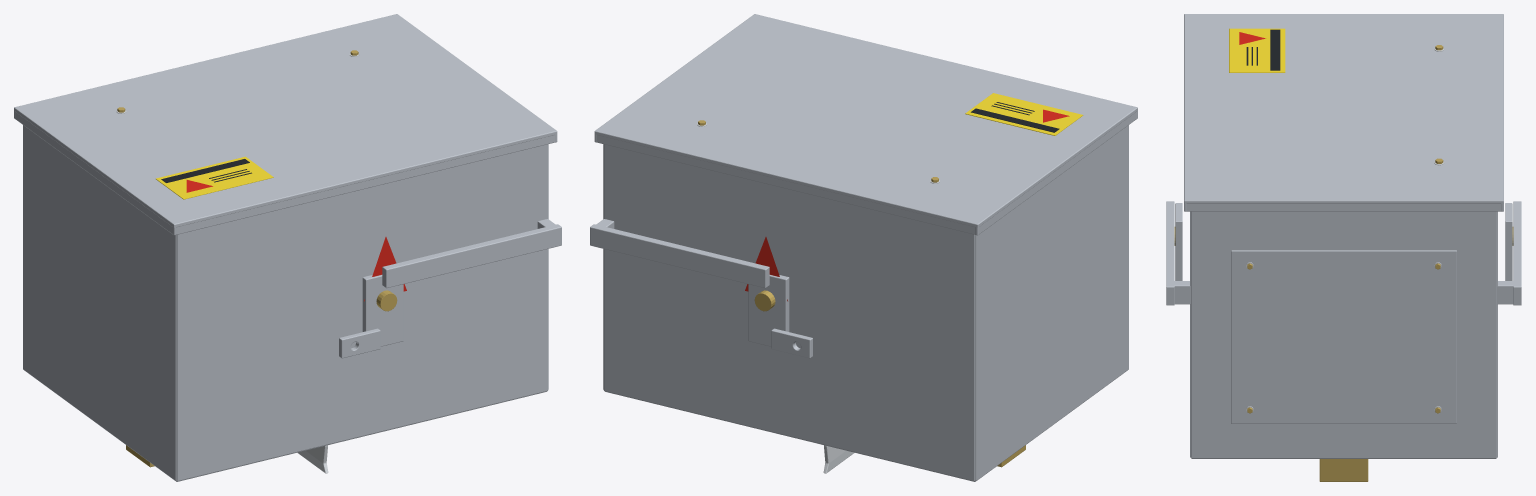
File: tap-off-double-top.glb
3 views of the same model, side by side, from view 1: azimuth 30°, elevation 25°; view 2: azimuth 150°, elevation 25°; view 3: azimuth 270°, elevation 25° (orthographic).
Parts seen in each view (by area): view 1: Side sheet, Lid sheet, End sheet, Long lever, Lid long return, Pivot plate, Yellow danger label, Lid end return, Lock tab; view 2: Side sheet.001, Lid sheet, End sheet, Long lever.001, Lid long return.001, Pivot plate.001, Yellow danger label, Lid end return, Lock tab.001; view 3: Lid sheet, Gland plate, End sheet.001, Lid end return.001, Yellow danger label, Earth return.001, Long lever, Long lever.001, Pivot plate, Pivot plate.001, Black warning header, Side sheet.001 (+3 smaller).
Part boxes in pixels (x1,y1,x2,y2): Side sheet: (176,144,547,481); Lid sheet: (14,14,557,227); End sheet: (23,125,176,480); Long lever: (382,224,561,288); Lid long return: (172,135,554,234); Pivot plate: (362,275,403,346); Yellow danger label: (156,156,273,199); Lid end return: (15,112,176,235); Lock tab: (339,328,380,358); Side sheet.001: (604,144,975,481); Lid sheet: (594,14,1137,227); End sheet: (975,125,1128,480); Long lever.001: (590,224,769,288); Lid long return.001: (597,135,979,234); Pivot plate.001: (748,275,789,346); Yellow danger label: (965,93,1083,135); Lid end return: (975,112,1136,235); Lock tab.001: (771,328,812,358); Lid sheet: (1184,14,1503,203); Gland plate: (1231,250,1456,423); End sheet.001: (1191,211,1496,458); Lid end return.001: (1184,204,1503,211); Yellow danger label: (1229,28,1285,72); Earth return.001: (1319,459,1368,481); Long lever: (1166,201,1174,305); Long lever.001: (1513,201,1521,305); Pivot plate: (1175,203,1182,280); Pivot plate.001: (1505,203,1512,280); Black warning header: (1270,29,1280,70); Side sheet.001: (1496,211,1497,457).
Bounding box in the file's own units: 0.362 × 0.2958 × 0.291.
